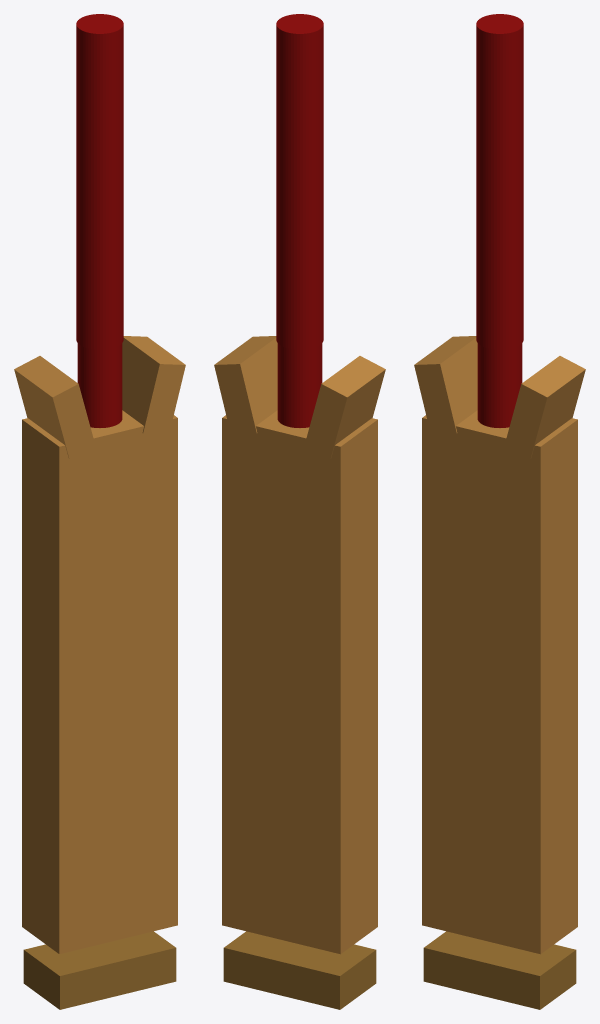
3 renders of one model, left to right at view 1: azimuth 30°, elevation 25°; view 2: azimuth 150°, elevation 25°; view 3: azimuth 330°, elevation 25°, orthographic.
Visible parts, largest first — view 1: part_5, part_2, part_4, part_0, part_1, part_3; view 2: part_5, part_2, part_4, part_0, part_1, part_3; view 3: part_5, part_2, part_4, part_1, part_0, part_3.
Boxes of the visible parts, x1=… form: part_5: x1=22, y1=410, x2=177, y2=954; part_2: x1=76, y1=14, x2=123, y2=349; part_4: x1=23, y1=931, x2=176, y2=1009; part_0: x1=122, y1=336, x2=185, y2=434; part_1: x1=14, y1=356, x2=95, y2=458; part_3: x1=77, y1=14, x2=122, y2=427; part_5: x1=222, y1=410, x2=377, y2=954; part_2: x1=276, y1=14, x2=323, y2=349; part_4: x1=223, y1=931, x2=376, y2=1009; part_0: x1=214, y1=336, x2=277, y2=434; part_1: x1=304, y1=356, x2=385, y2=458; part_3: x1=277, y1=14, x2=322, y2=427; part_5: x1=422, y1=410, x2=577, y2=954; part_2: x1=476, y1=14, x2=523, y2=349; part_4: x1=423, y1=931, x2=576, y2=1009; part_1: x1=414, y1=336, x2=477, y2=434; part_0: x1=504, y1=356, x2=585, y2=458; part_3: x1=477, y1=14, x2=522, y2=427.
Size of the model in its own units: 0.1455 by 1 by 0.0729.
